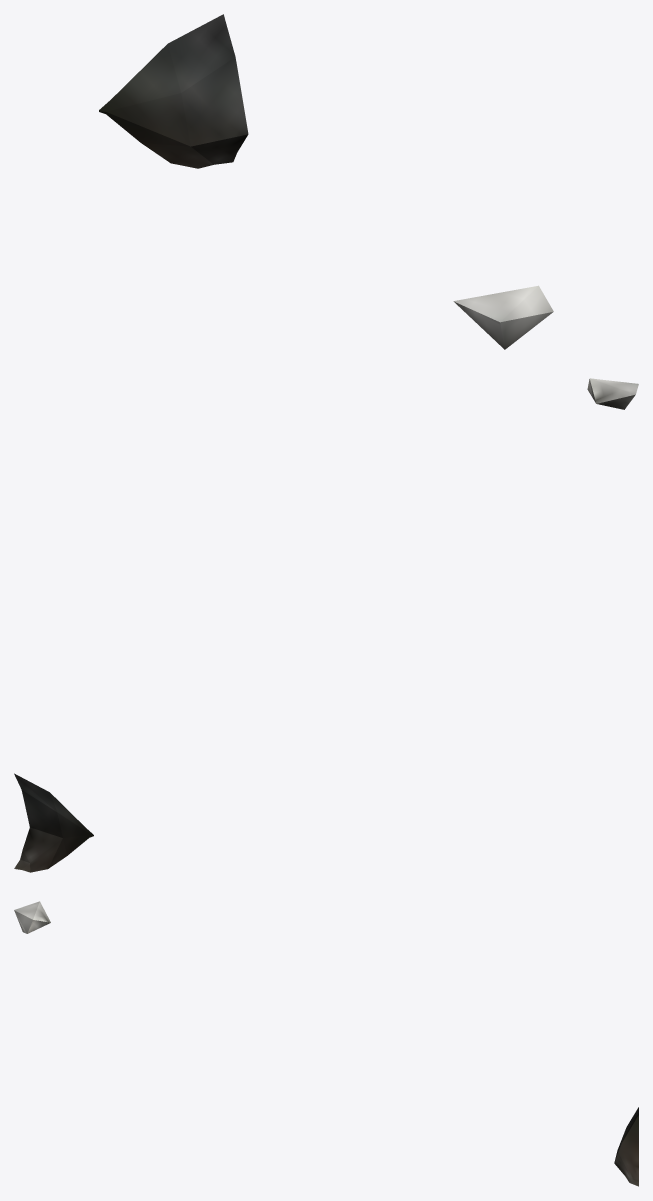
3 renders of one model, top to bottom at view 1: azimuth 30°, elevation 25°; view 2: azimuth 150°, elevation 25°; view 3: azimuth 270°, elevation 25°, orthographic. The views are drawn at different scales.
Size of the model in its own units: 0.3978 by 0.4028 by 1.16.
1 material, 1 textured.
